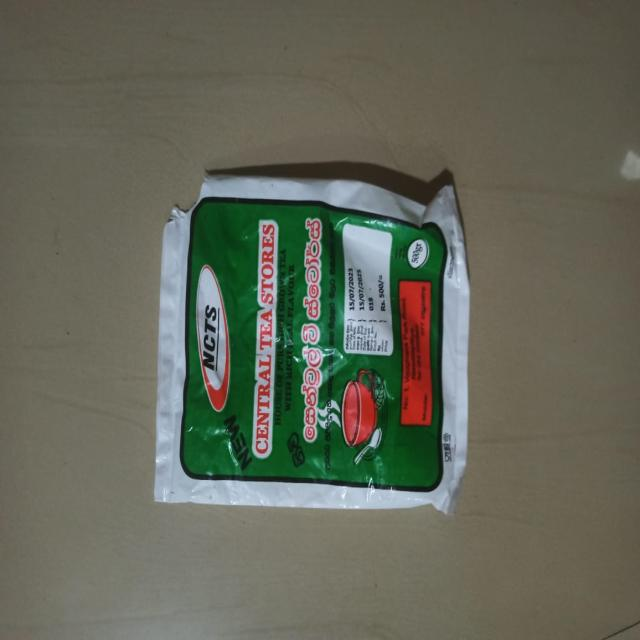Central Tea: (157, 188, 488, 502)
